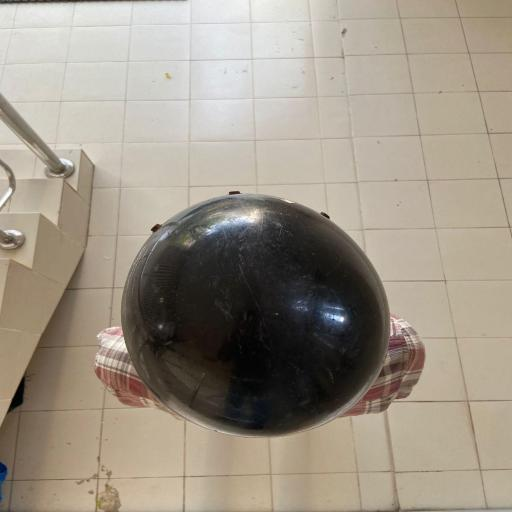with helmet: (120, 190, 392, 440)
